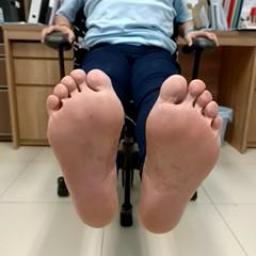Plantar View -Both Feet-: (29, 65, 243, 248)
